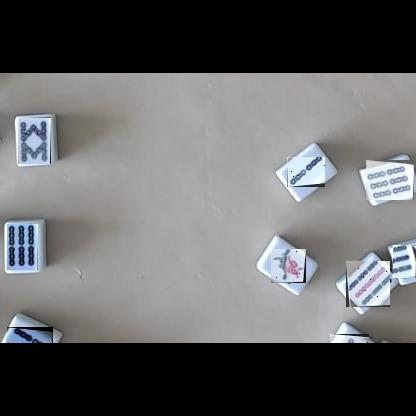1s: (271, 249, 306, 283)
2s: (287, 157, 325, 187)
4s: (6, 327, 53, 343), (330, 334, 369, 343)
6s: (366, 160, 414, 200), (6, 223, 38, 270)
7s: (392, 245, 416, 278)
8s: (18, 117, 51, 164)
9s: (346, 261, 390, 307)
